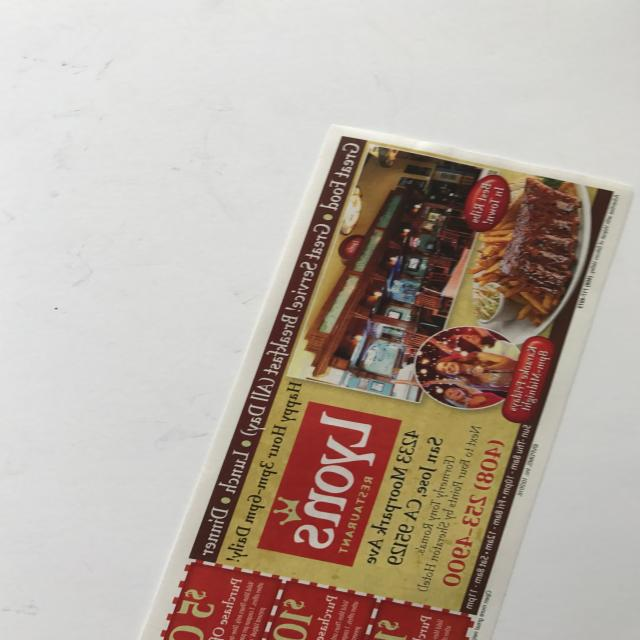paper: (128, 137, 633, 640)
